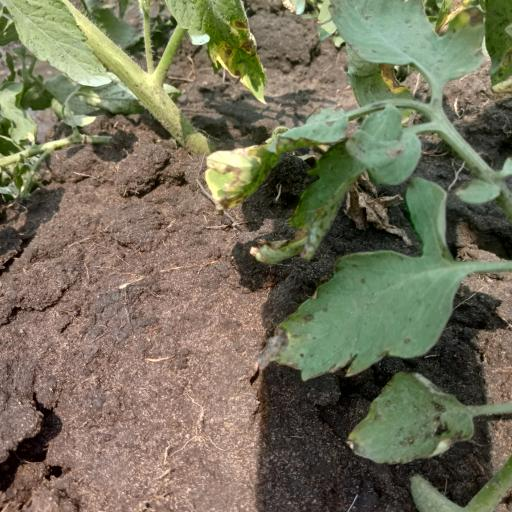Tomato_Brown_Spots: (247, 176, 468, 383), (324, 0, 494, 96), (348, 368, 479, 471), (164, 0, 273, 107)
